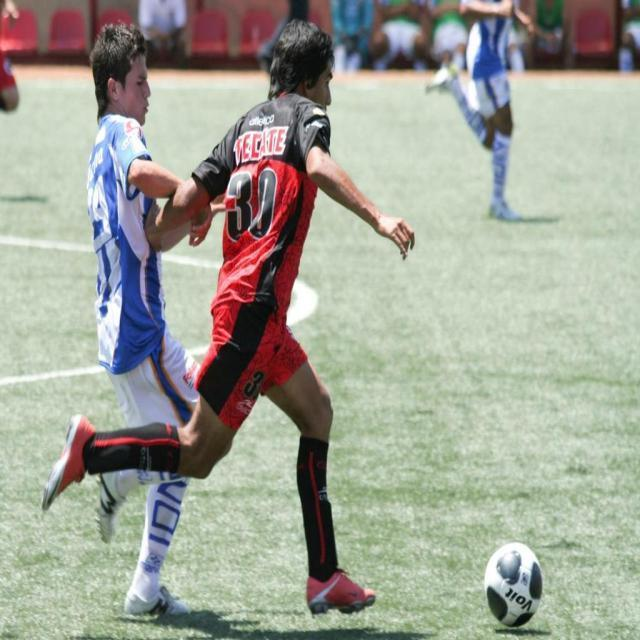football: (461, 536, 550, 632)
